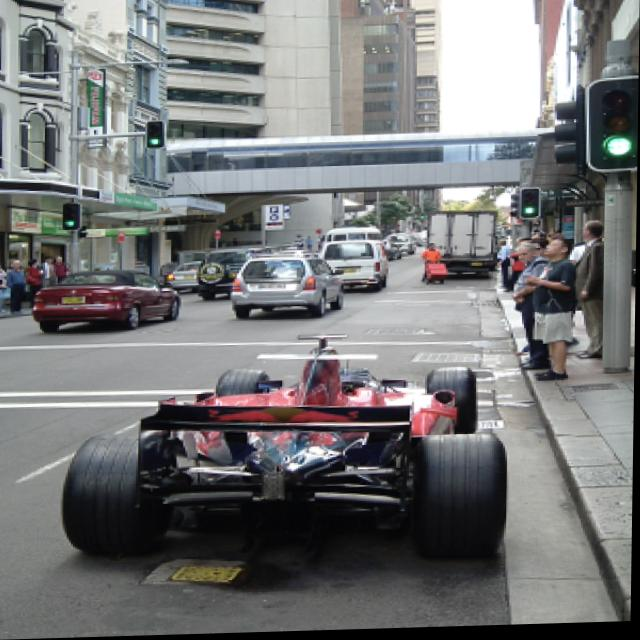licence: (63, 291, 86, 306)
